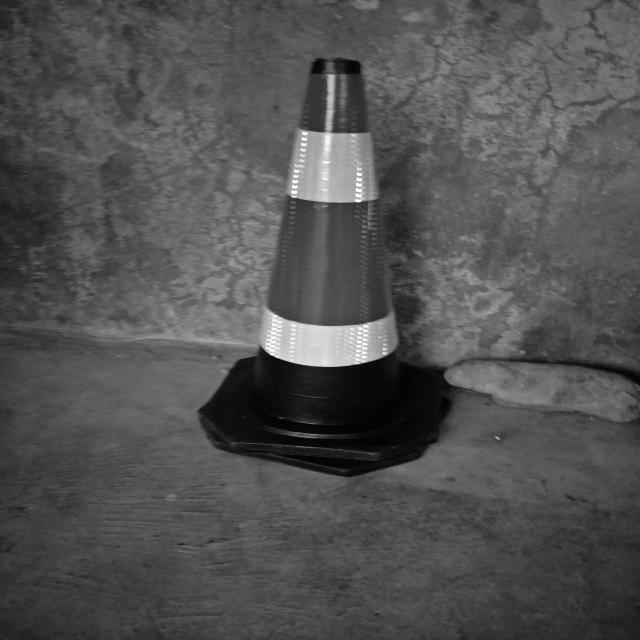reflective_cone: (194, 59, 454, 478)
